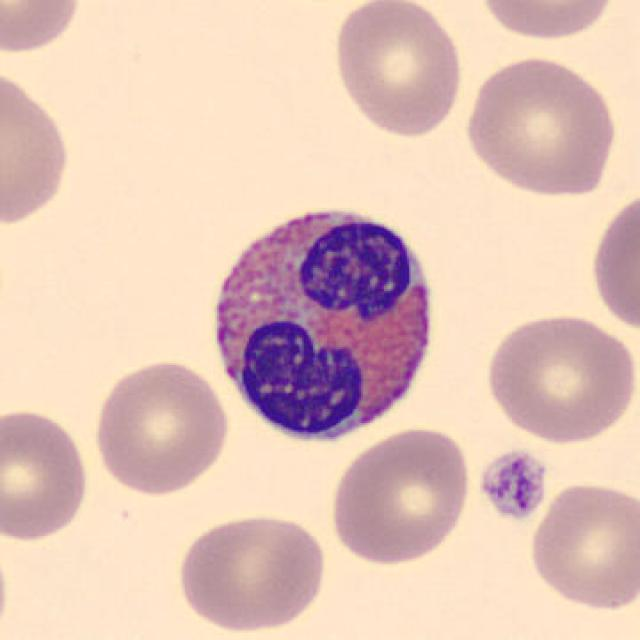eosinophil: (209, 201, 441, 450)
platelets: (483, 450, 545, 522)
rbc: (472, 58, 616, 194), (325, 0, 465, 139), (92, 355, 230, 495), (482, 314, 632, 439), (180, 513, 332, 635), (335, 430, 476, 560), (0, 407, 89, 555), (538, 488, 640, 608), (0, 65, 69, 223), (482, 0, 620, 45), (592, 203, 640, 330), (0, 0, 95, 52)
